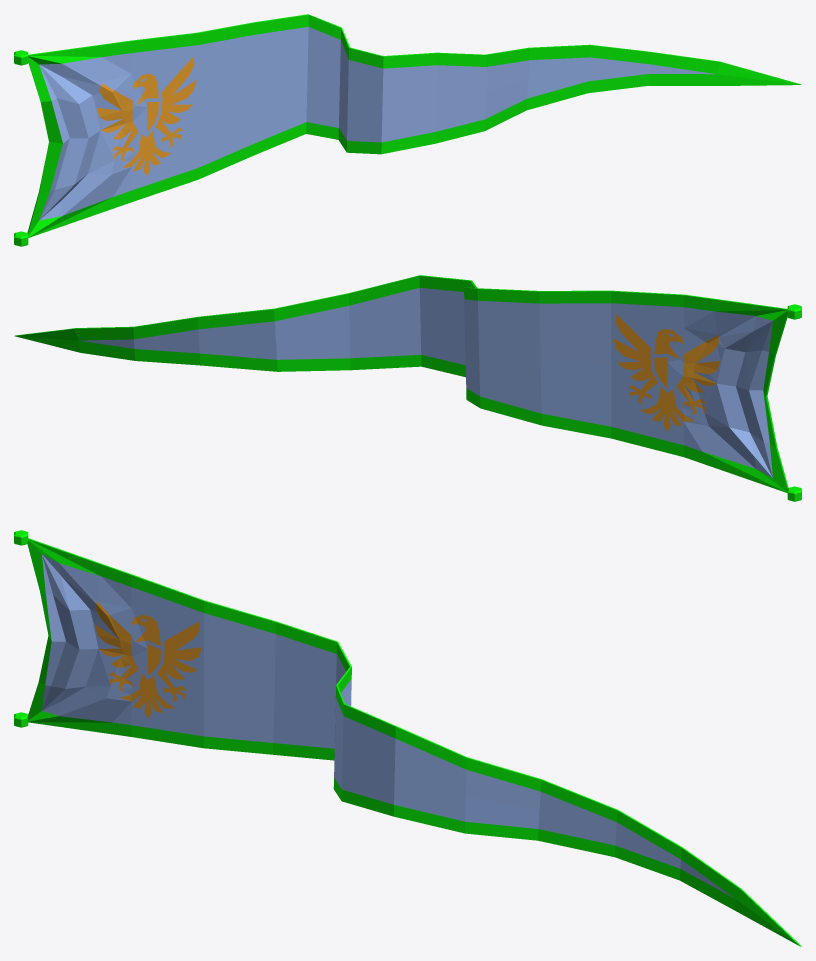
File: SM_Flag_Triangle_B_Fantasy.fbx
3 views of the same model, one above another, from view 1: azimuth 30°, elevation 25°; view 2: azimuth 150°, elevation 25°; view 3: azimuth 330°, elevation 25° (orthographic).
Visible parts, largest first — view 1: flag-triangle-b-fantasy; view 2: flag-triangle-b-fantasy; view 3: flag-triangle-b-fantasy.
Part boxes in pixels (left/top/right/bottom): flag-triangle-b-fantasy: left=14, top=14, right=801, bottom=246; flag-triangle-b-fantasy: left=14, top=275, right=801, bottom=501; flag-triangle-b-fantasy: left=14, top=530, right=801, bottom=946.
Size of the model in its own units: 4.89 by 1.31 by 0.3947.
